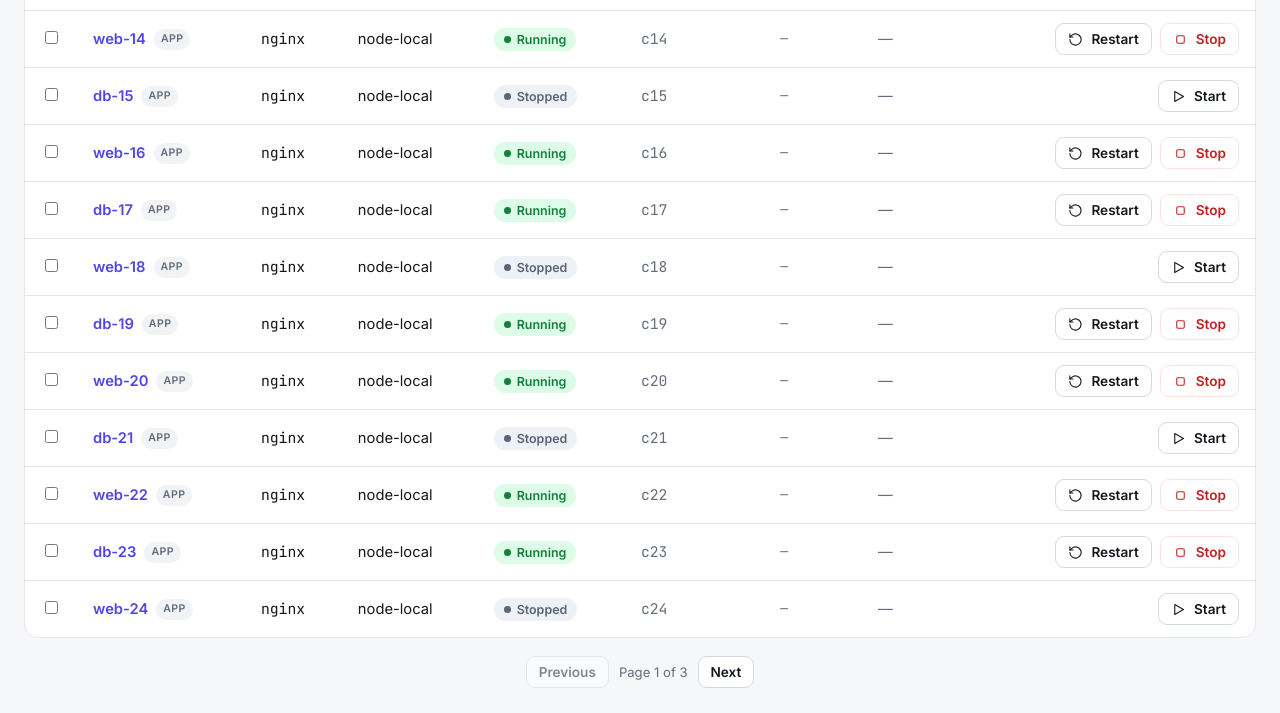
Test: Servers list at scale › pages, and returns to the first page when the filter changes
(page scrolled)
Click the button "Next". click: (726, 672)
box: [698, 656, 754, 688]
(page scrolled)
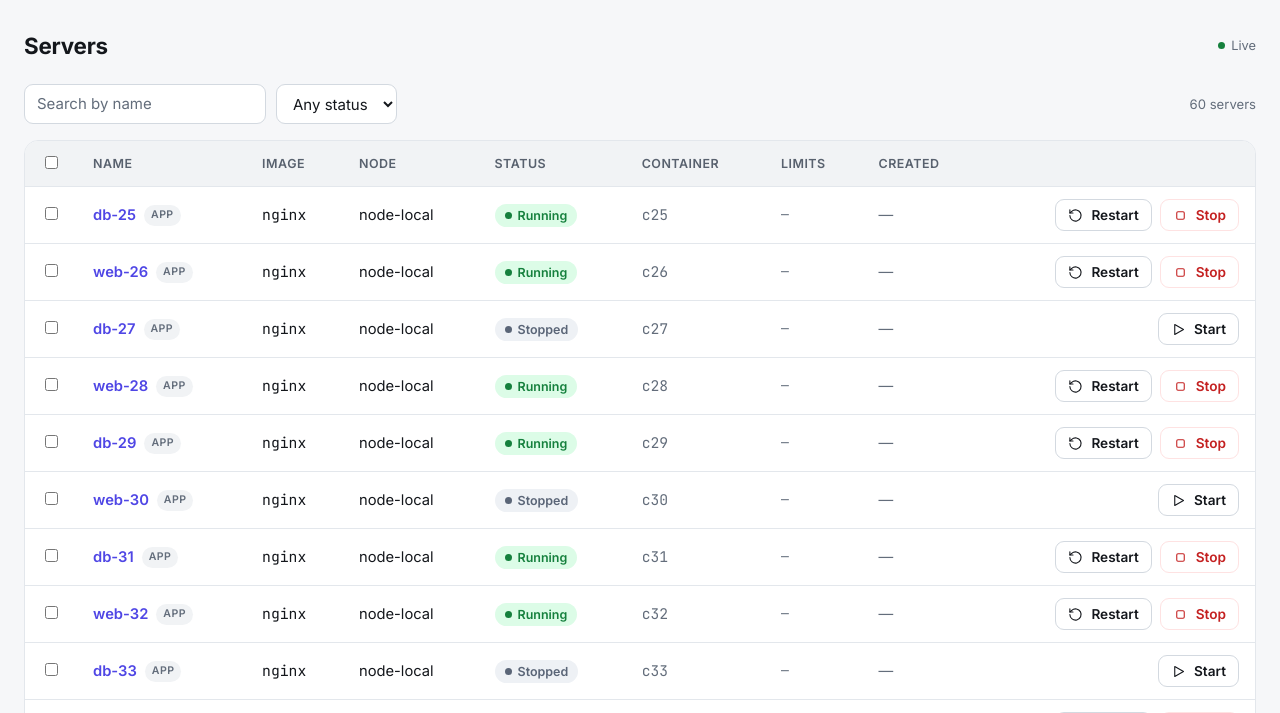
Type "web" into the search field named "search servers by name". click: (145, 104)
box: [24, 84, 266, 124]
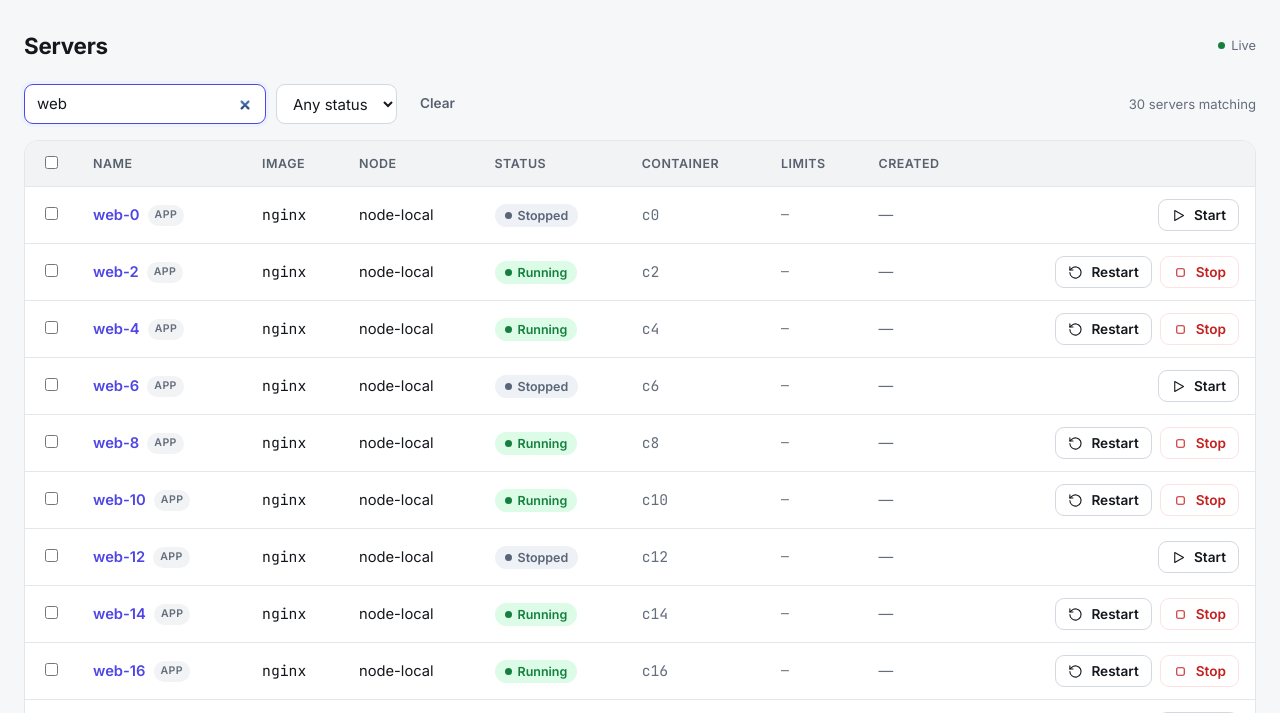
Expected: the text "30 servers matching" is shown, [1129, 94, 1256, 114]
